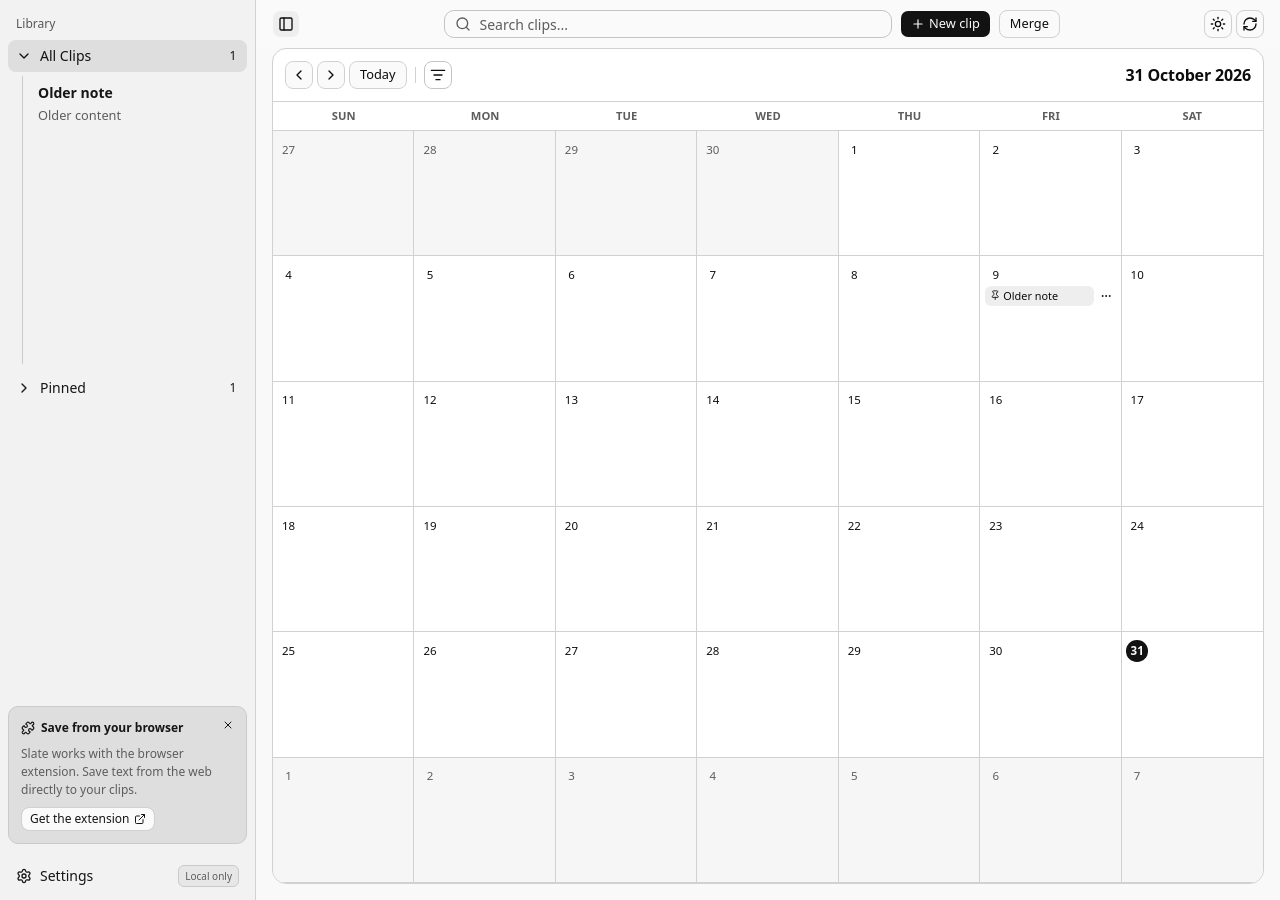
Create reconciles automatic membership and opens the containing group
Expected: the button with aria-label "Open Older note" is shown, [985,286,1094,306]
Click the button "New clip" at (945, 24), box [900,10,991,38]
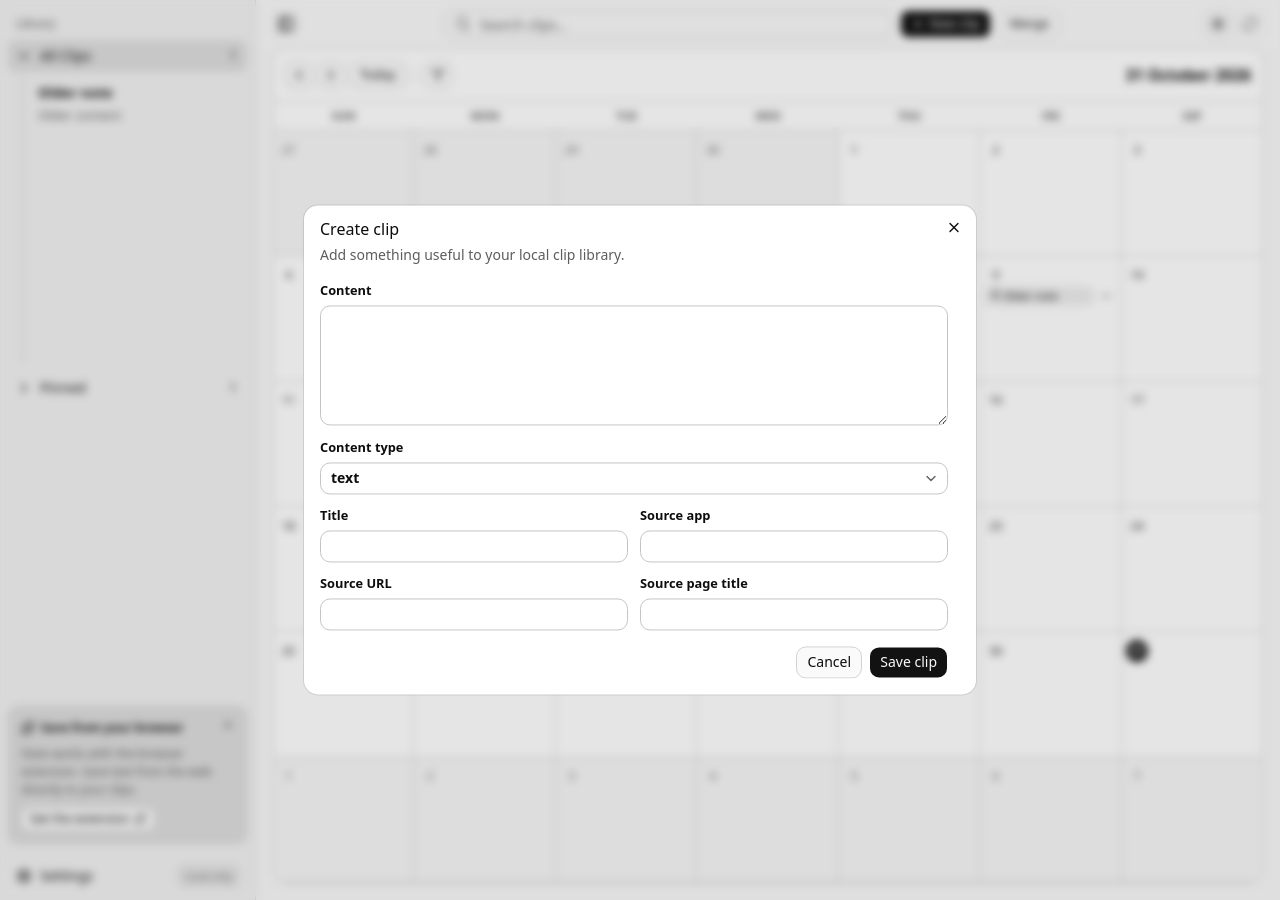
Type "Newer content" into the text box labelled "Content" at (634, 365), box [320,305,948,425]
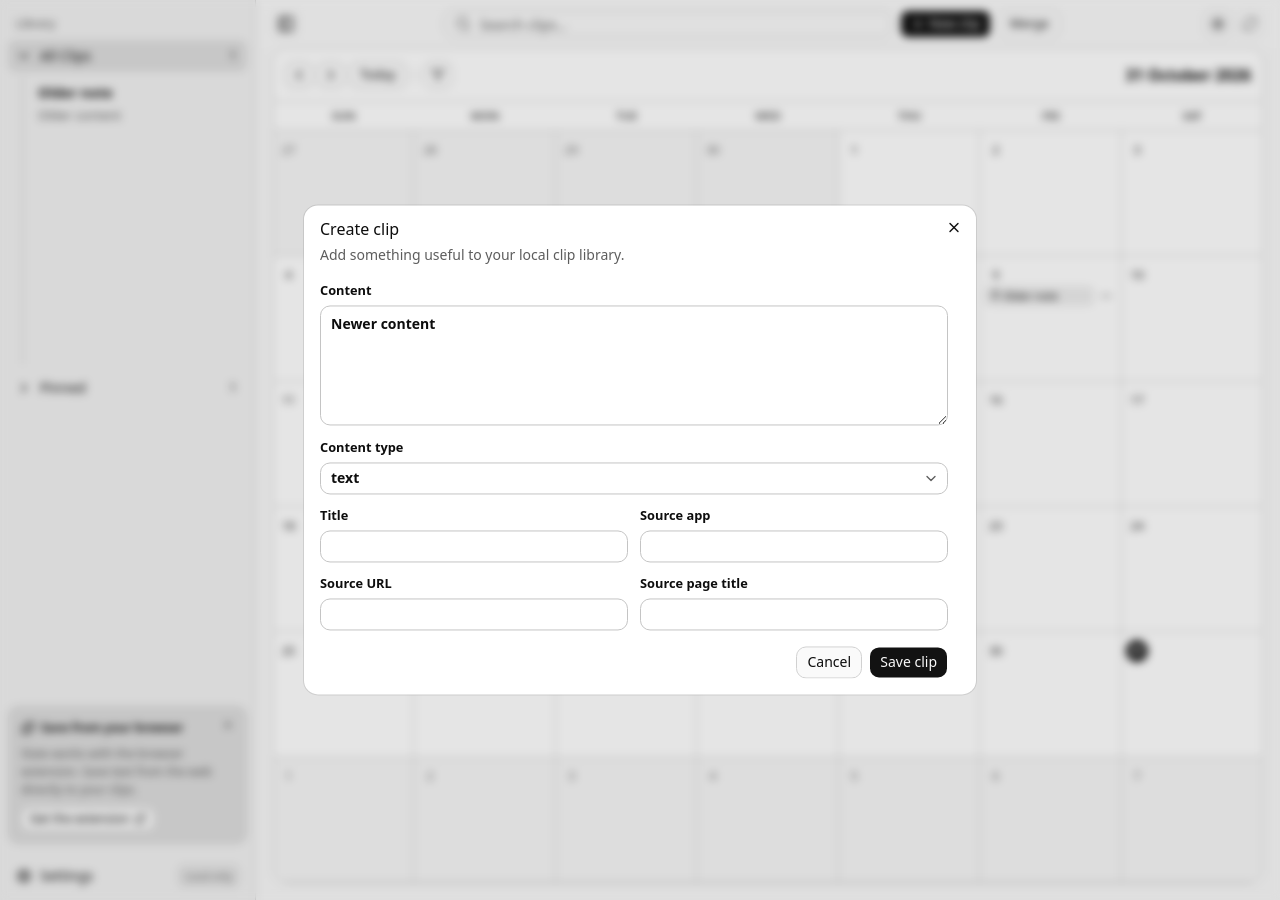
Type "https://example.com/shared" into the field labelled "Source URL" at (474, 615), box [320,599,628,631]
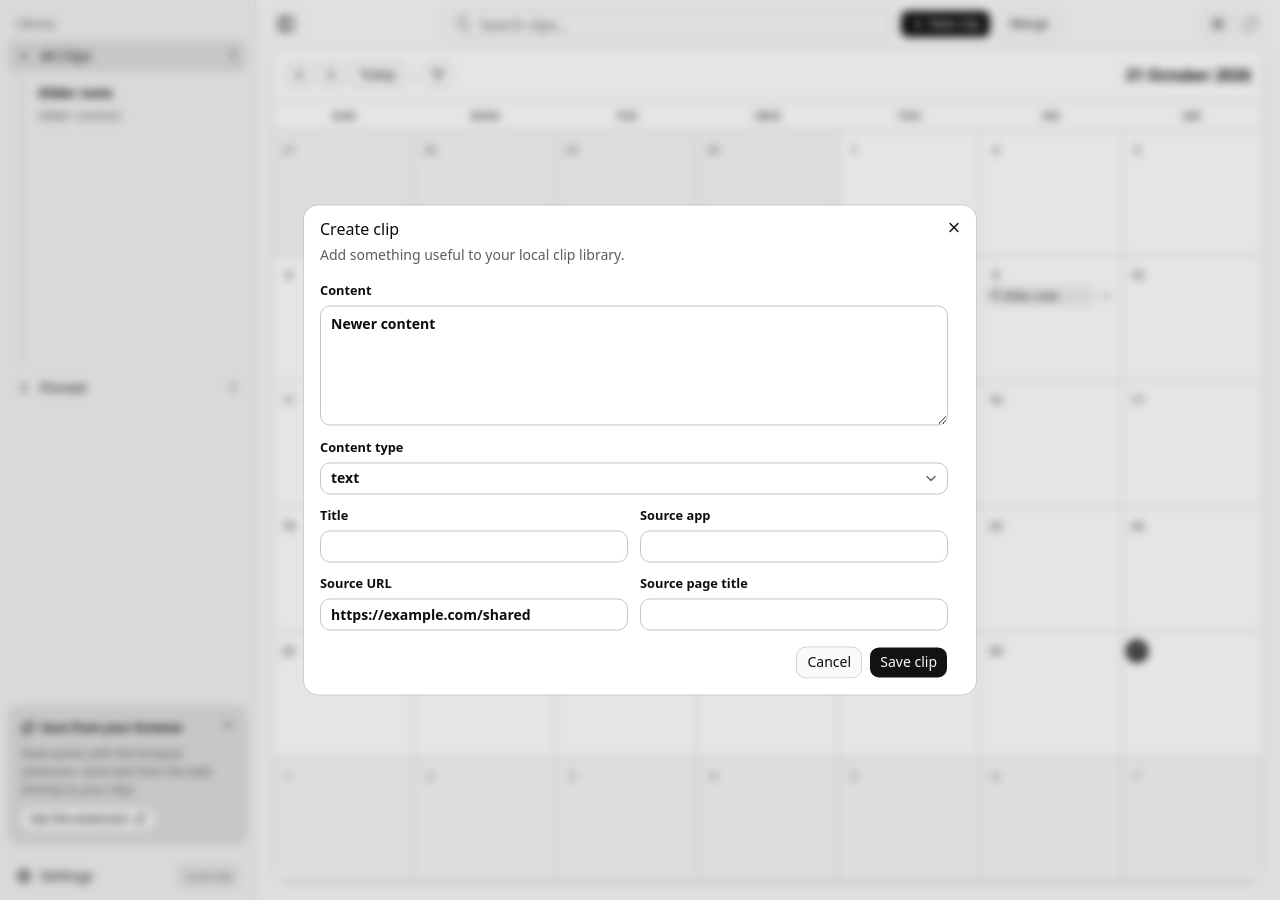
Click the button "Save clip" at (909, 662), box [869,646,948,678]
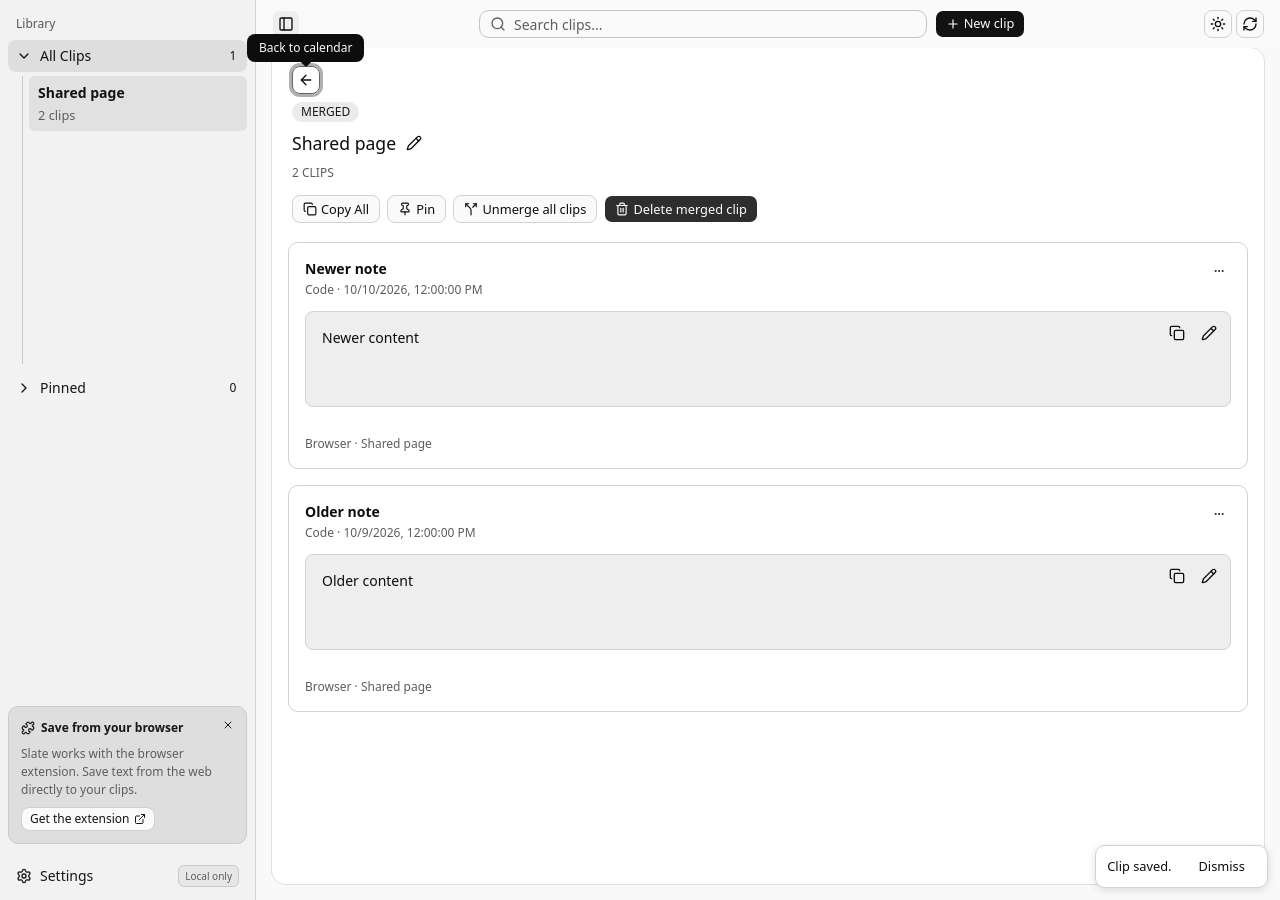
Now the heading "Shared page" is shown, box [292,131,396,155]
Now the text "Newer content" is shown, box [305,311,1231,407]
